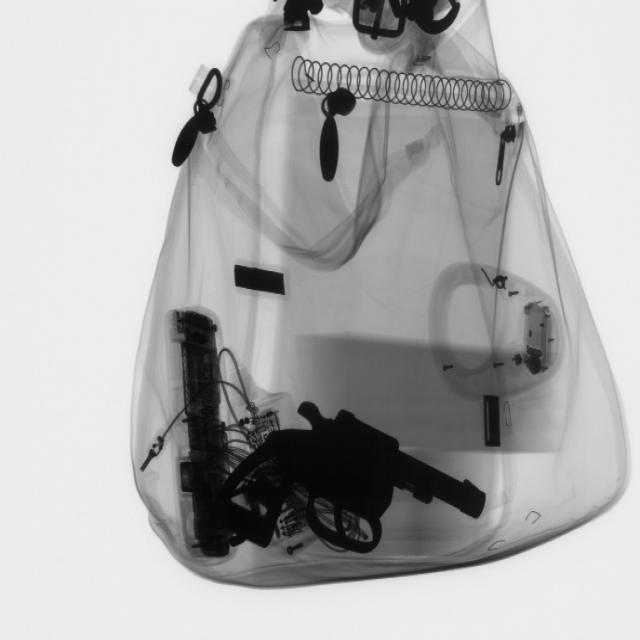GUN: (212, 400, 487, 556)
